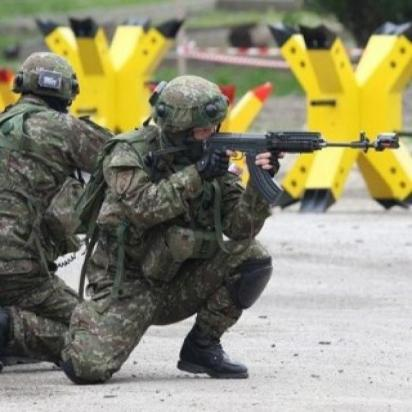Gun: (194, 126, 402, 202)
